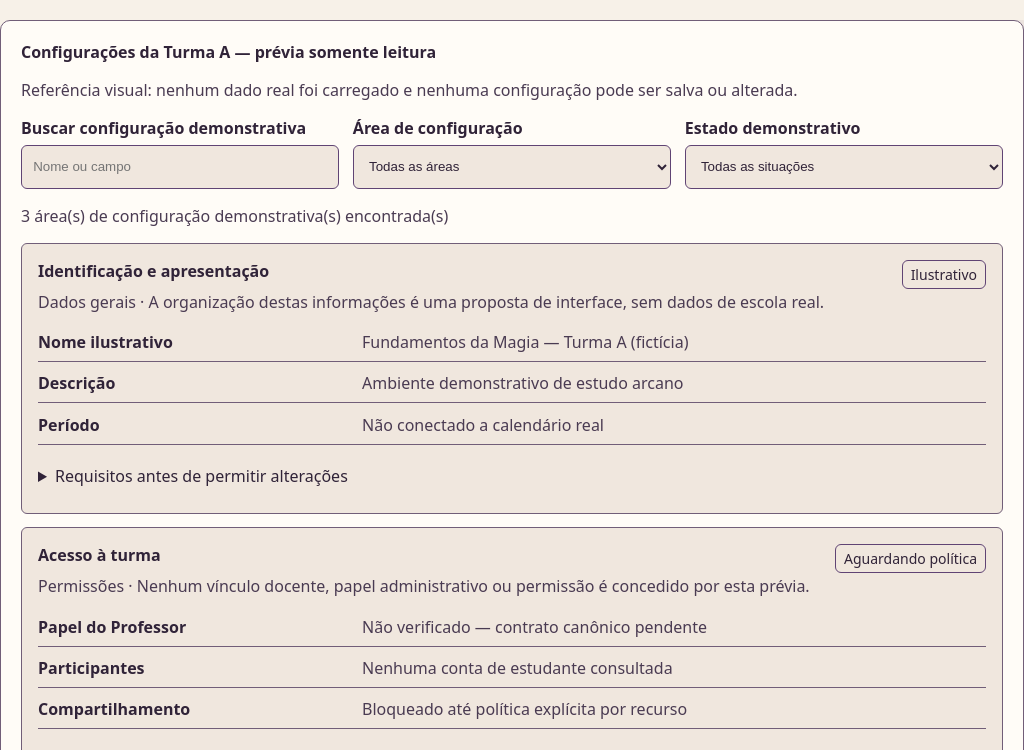
Professor → Turma A → Configurações (prévia) › filters by section and proposed status with a useful empty state
Select "Permissões" in the dropdown labelled "Área de configuração": point(512, 167) [353, 145, 671, 189]
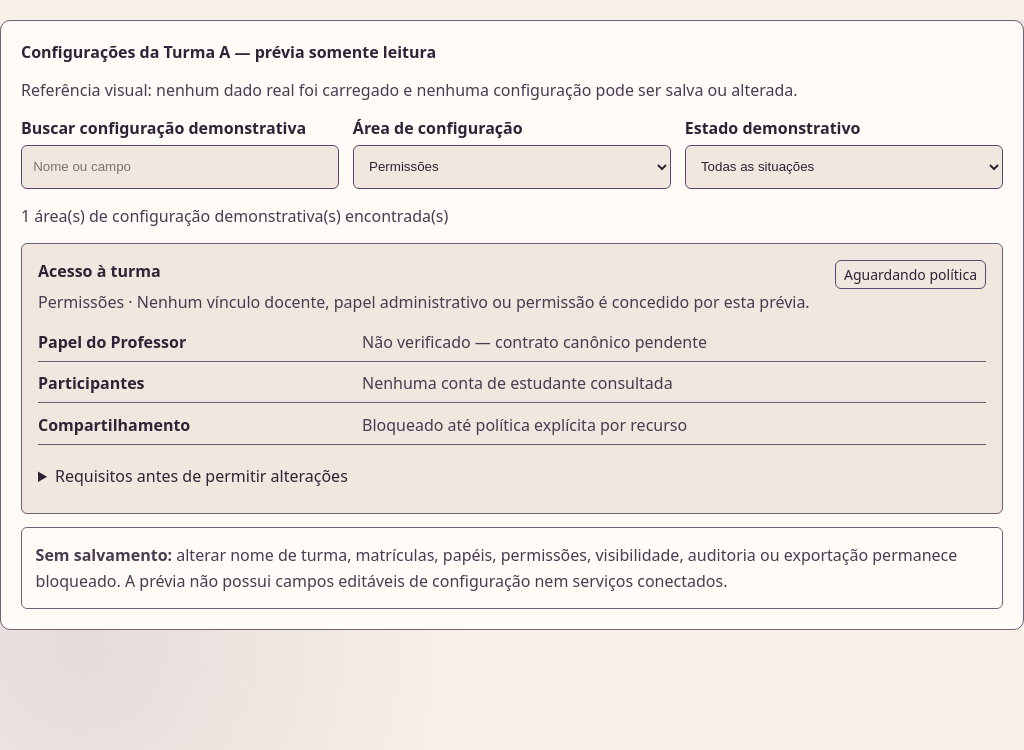
Check: the text "1 área(s) de configuração demonstrativa(s) encontrada(s)" is shown, box [21, 205, 448, 227]
Select "Ilustrativo" in the dropdown labelled "Estado demonstrativo": point(844, 167) [685, 145, 1003, 189]
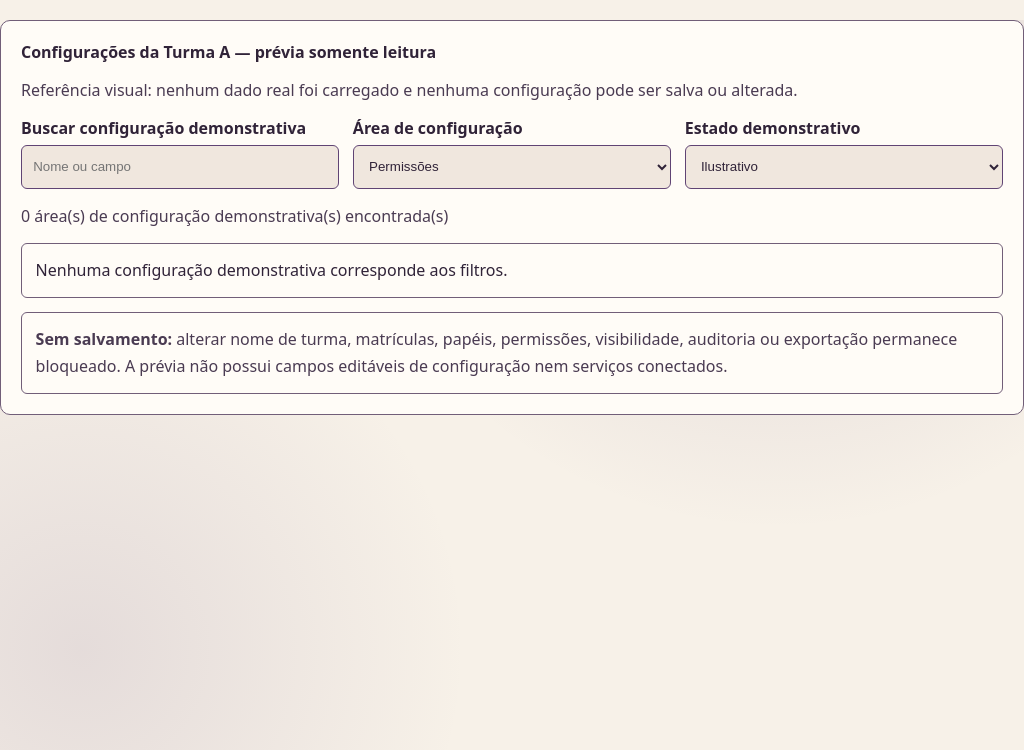
Check: the text "Nenhuma configuração demonstrativa corresponde aos filtros." is shown, box [21, 242, 1003, 298]
